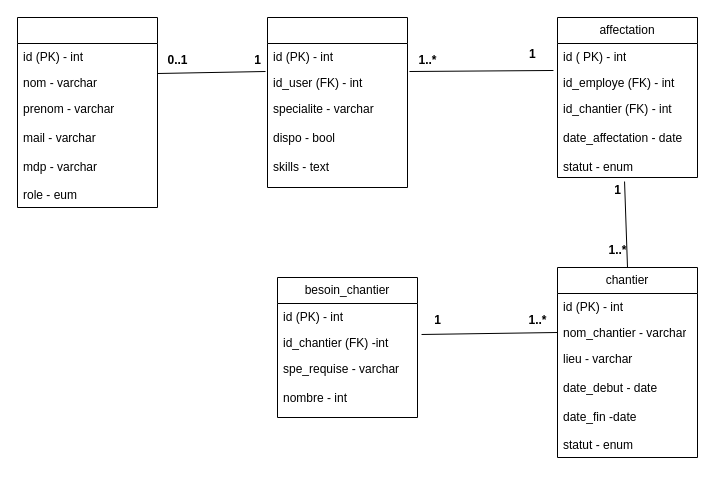
This 715x478 diagram has some shape labels left out. The shapes that lost their labels are listed below. From the top down, each one's box as (x1, y1, x2, y2) in pixels, then its label:
(16, 16, 158, 208): user
(266, 16, 408, 188): employe
